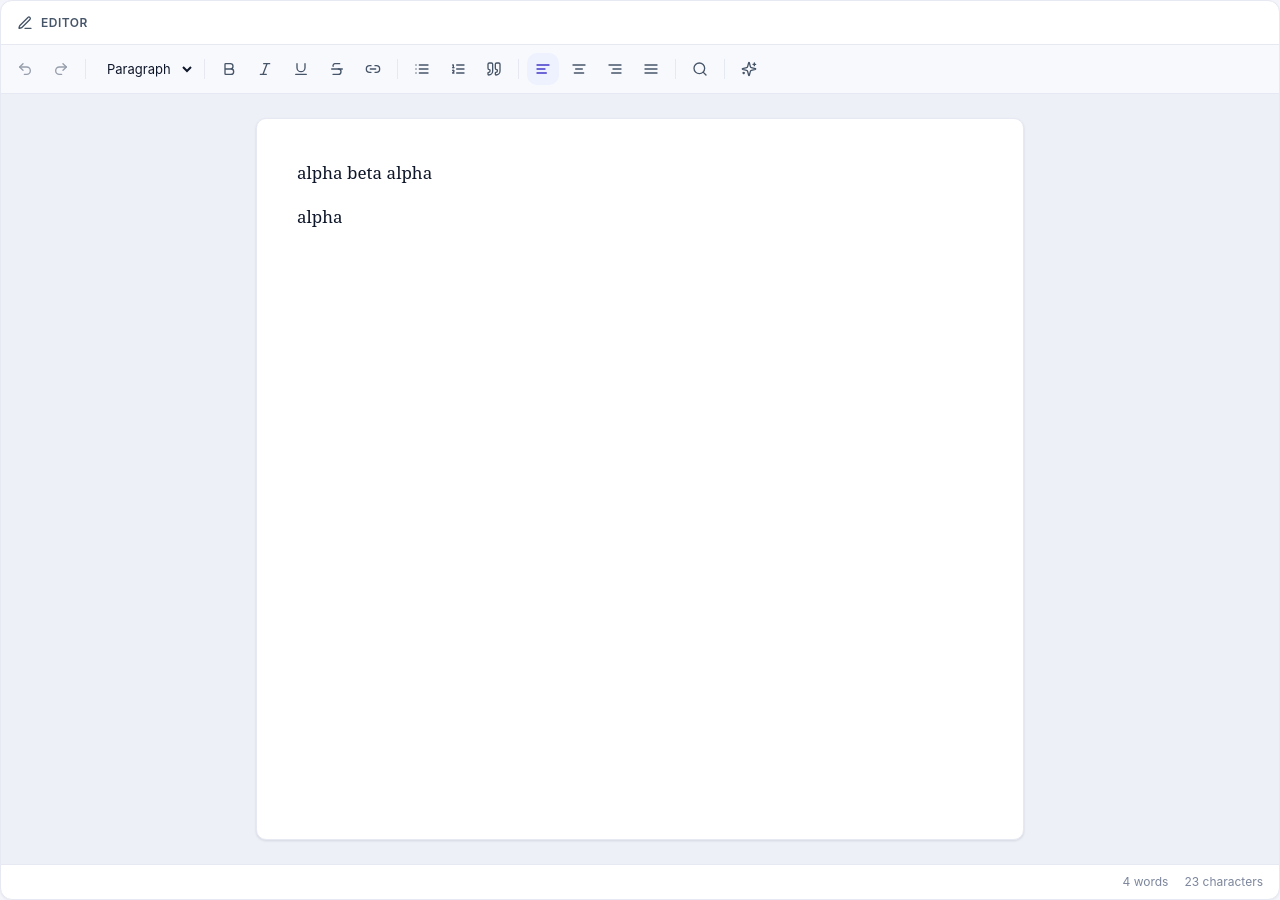
Test: Editor find and replace › searches only the selected text when that option is enabled
Click the button named "Find in document".
click(700, 69)  # box [684, 53, 716, 85]
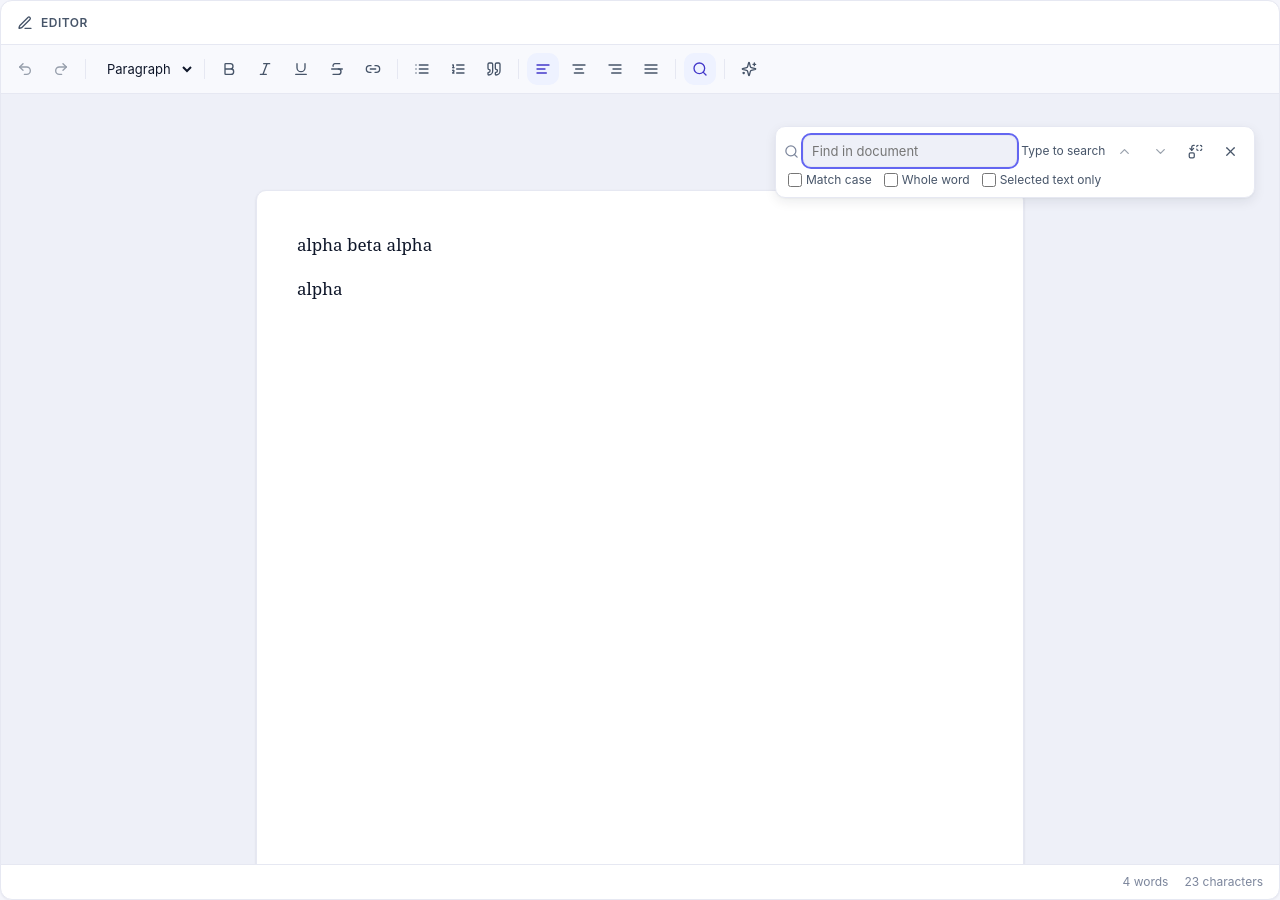
Expected: the form named "Find and replace" is shown, [775, 126, 1255, 198]
Expected: the checkbox labelled "Selected text only" is enabled, [982, 173, 996, 187]
Type "alpha" into the field labelled "Find in document".
click(910, 151); type("alpha")  # box [803, 135, 1017, 167]
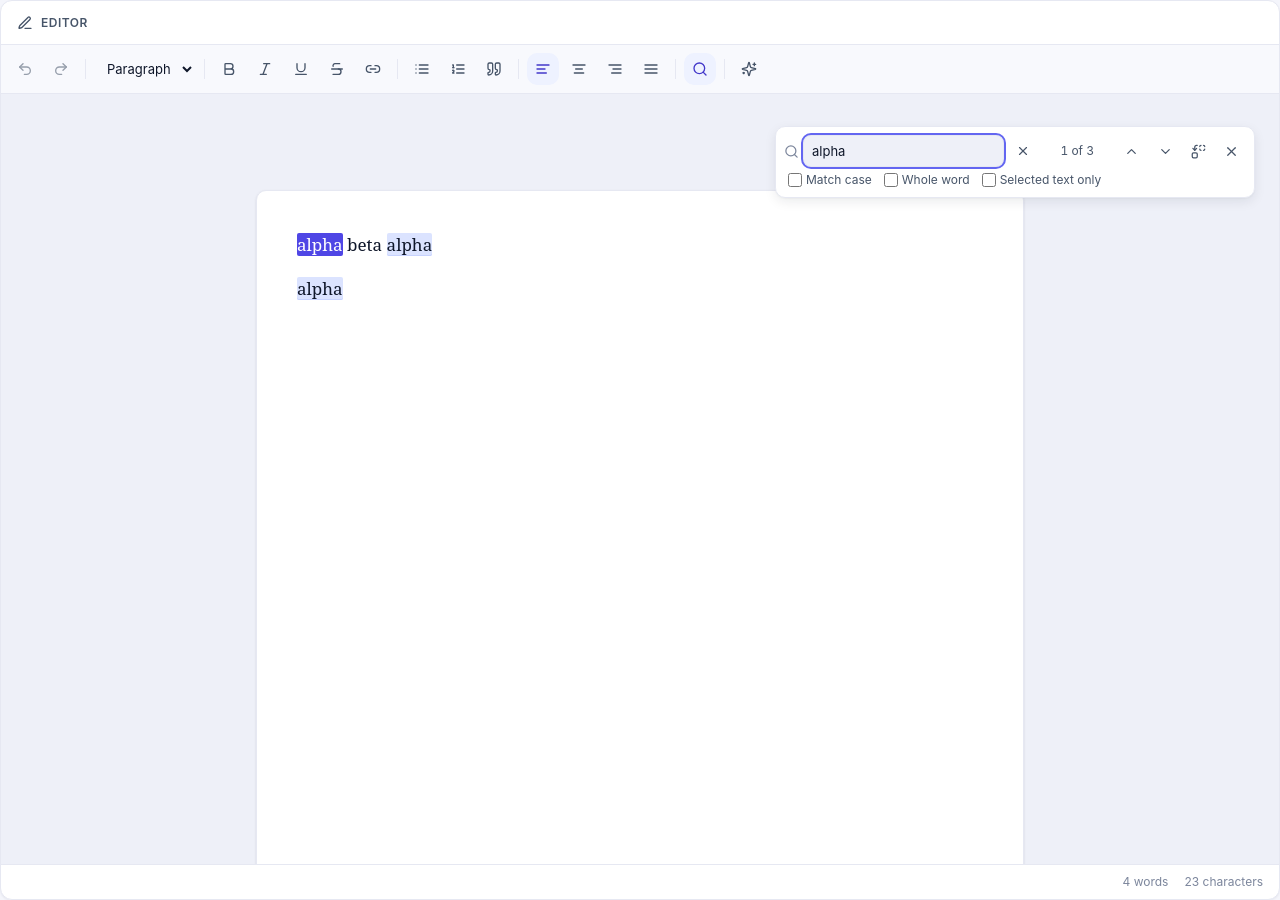
Expected: the text "1 of 3" is shown, [1060, 143, 1094, 158]
Click the checkbox labelled "Selected text only".
click(989, 180)  # box [982, 173, 996, 187]
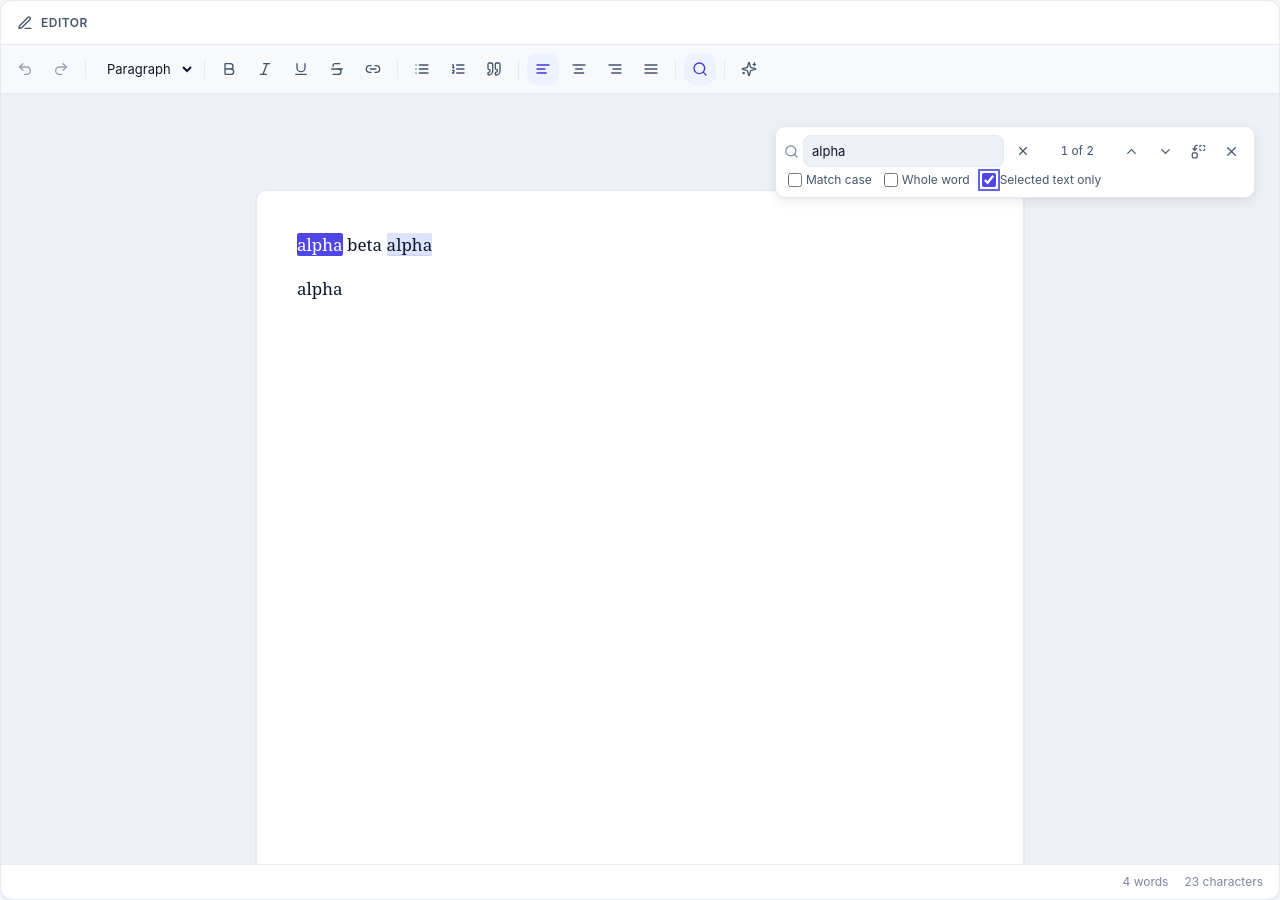
Expected: the text "1 of 2" is shown, [1060, 143, 1094, 158]
Click the checkbox labelled "Selected text only".
click(989, 180)  # box [982, 173, 996, 187]
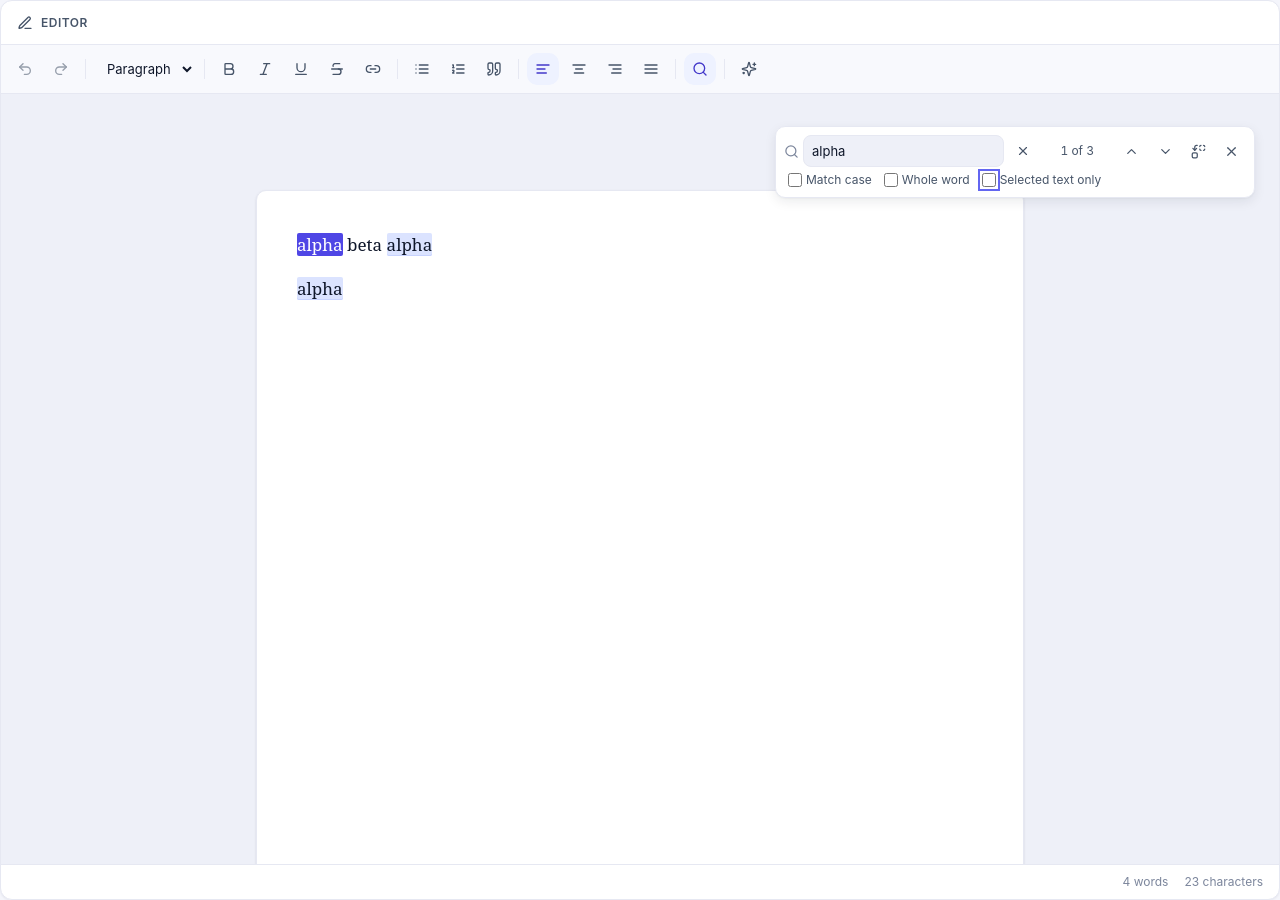
Expected: the text "1 of 3" is shown, [1060, 143, 1094, 158]
